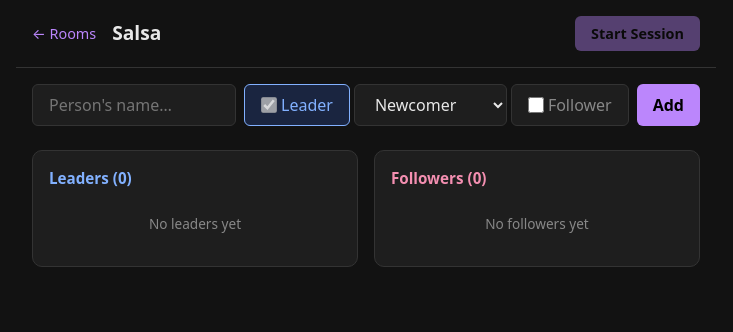
Test: Room page › level per role › adds a person with a different level in each role
Click the checkbox labelled "Follower": click(536, 105) top-left (528, 97), bottom-right (544, 113)
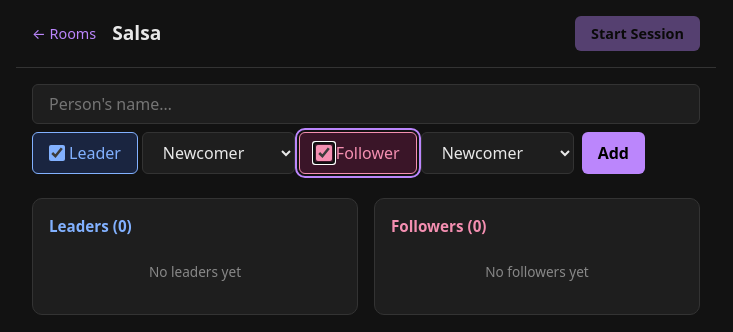
Select "All-star" in the dropdown named "Leader level": (218, 153) top-left (142, 132), bottom-right (295, 174)
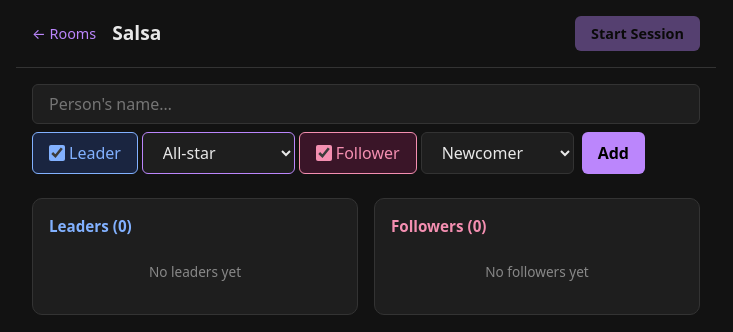
Select "Intermediate" in the dropdown named "Follower level": (497, 153) top-left (421, 132), bottom-right (574, 174)
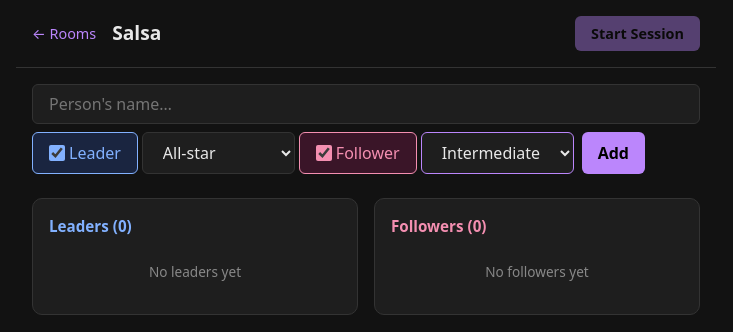
In the field with placeholder "Person's name…": (366, 104) top-left (32, 84), bottom-right (700, 124), type "Vivien"
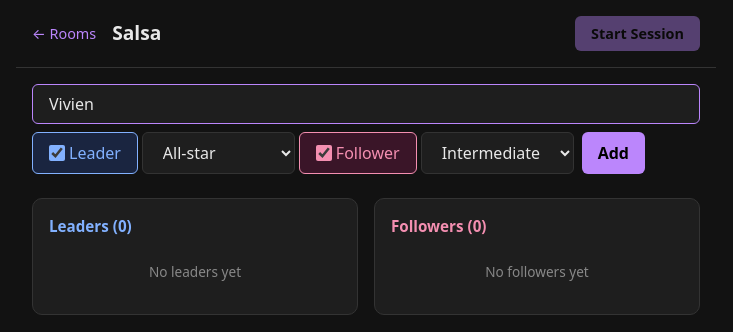
Click the button "Add": click(613, 153) top-left (582, 132), bottom-right (645, 174)
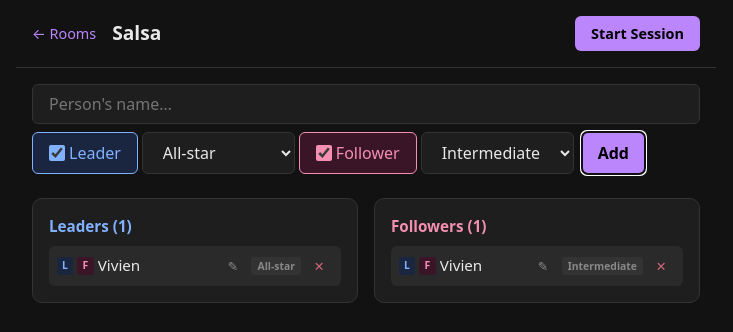
Check: the button with aria-label "Leader level: All-star" is shown, box top-left (252, 257), bottom-right (301, 275)
Check: the button with aria-label "Follower level: Intermediate" is shown, box top-left (562, 257), bottom-right (643, 275)
